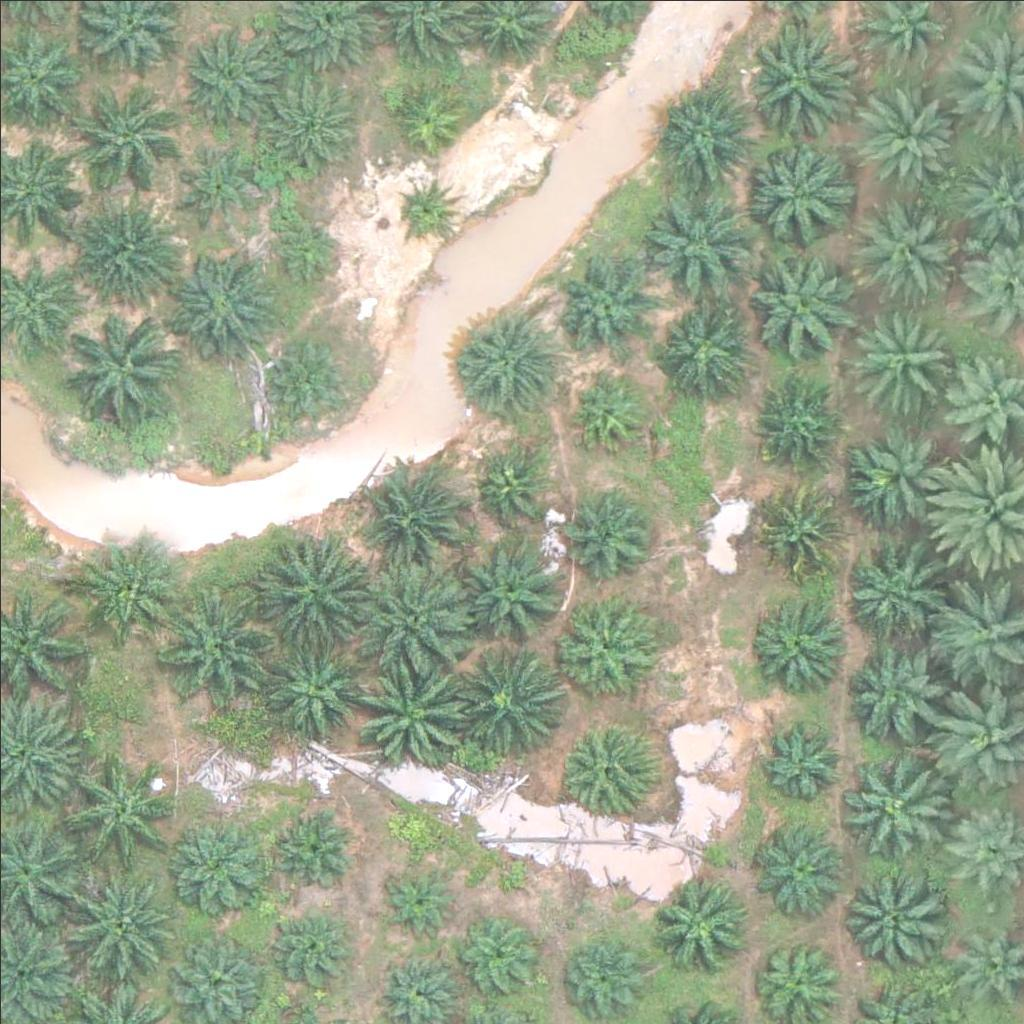Kelapa_Sawit: (260, 533, 373, 647), (63, 316, 176, 429), (169, 243, 282, 356), (643, 192, 756, 305), (742, 248, 855, 361), (738, 137, 851, 250), (453, 638, 566, 751), (838, 749, 951, 862), (65, 84, 177, 198), (833, 863, 945, 977), (74, 188, 186, 301), (161, 592, 273, 705), (353, 559, 465, 672), (740, 25, 852, 138), (60, 755, 172, 868), (60, 864, 172, 977), (354, 655, 466, 768), (465, 541, 565, 642), (182, 21, 282, 122), (657, 83, 757, 184), (745, 599, 845, 700), (838, 540, 938, 641), (852, 303, 952, 404), (857, 191, 957, 292), (861, 83, 961, 184), (167, 921, 267, 1022), (266, 640, 366, 741), (650, 869, 750, 970), (77, 532, 177, 632), (367, 467, 467, 567), (457, 307, 557, 407), (259, 74, 359, 174), (554, 599, 654, 699), (551, 254, 651, 354), (843, 634, 943, 734), (853, 434, 953, 534), (168, 816, 268, 916), (556, 714, 656, 814), (748, 814, 848, 914), (171, 140, 259, 228), (266, 332, 354, 420), (569, 494, 657, 582), (658, 299, 746, 387), (758, 488, 846, 576), (268, 799, 356, 887), (751, 932, 839, 1020), (759, 719, 847, 807), (756, 380, 843, 468), (561, 930, 648, 1018), (451, 913, 538, 1001), (271, 909, 358, 997), (380, 868, 455, 944), (570, 375, 645, 451), (475, 450, 550, 525), (267, 214, 342, 289), (391, 76, 466, 151), (394, 175, 457, 238)
